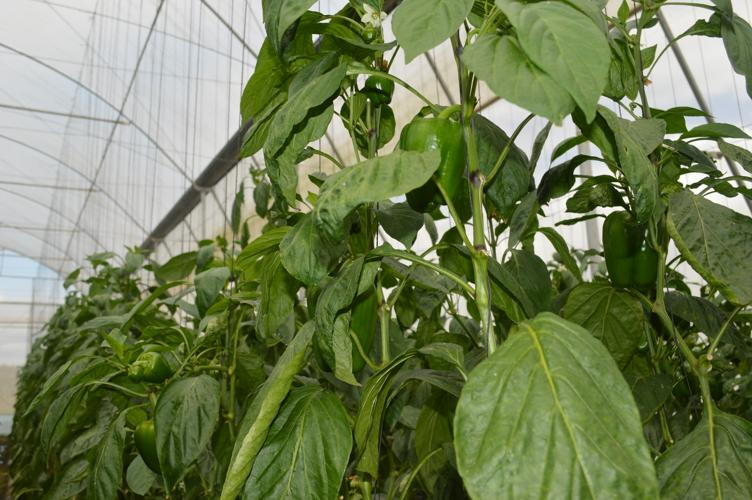BellPepper: (301, 282, 375, 375), (395, 119, 464, 207), (601, 210, 657, 294), (127, 419, 164, 472)
